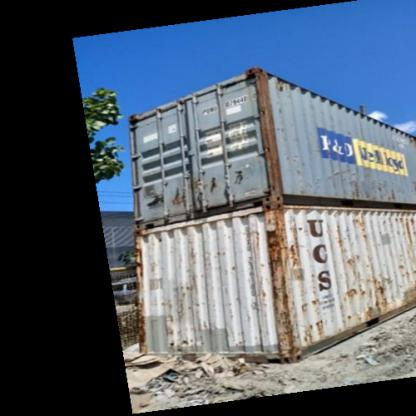Damage: (268, 215, 300, 350), (251, 73, 282, 195), (243, 223, 266, 310), (157, 281, 202, 321), (349, 177, 399, 203), (368, 272, 390, 316), (391, 214, 415, 246), (304, 317, 330, 341), (185, 242, 201, 280), (352, 214, 369, 240), (393, 261, 415, 280), (166, 336, 192, 350), (327, 161, 344, 181), (342, 284, 366, 298), (344, 308, 362, 324), (332, 225, 343, 248), (302, 294, 321, 307), (292, 164, 306, 178), (345, 253, 360, 265), (213, 247, 230, 257), (276, 100, 286, 113), (229, 262, 238, 272)
